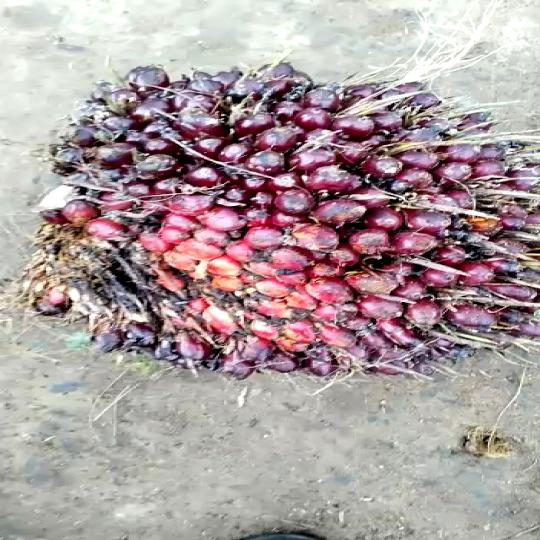kurang masak: (46, 50, 540, 400)
